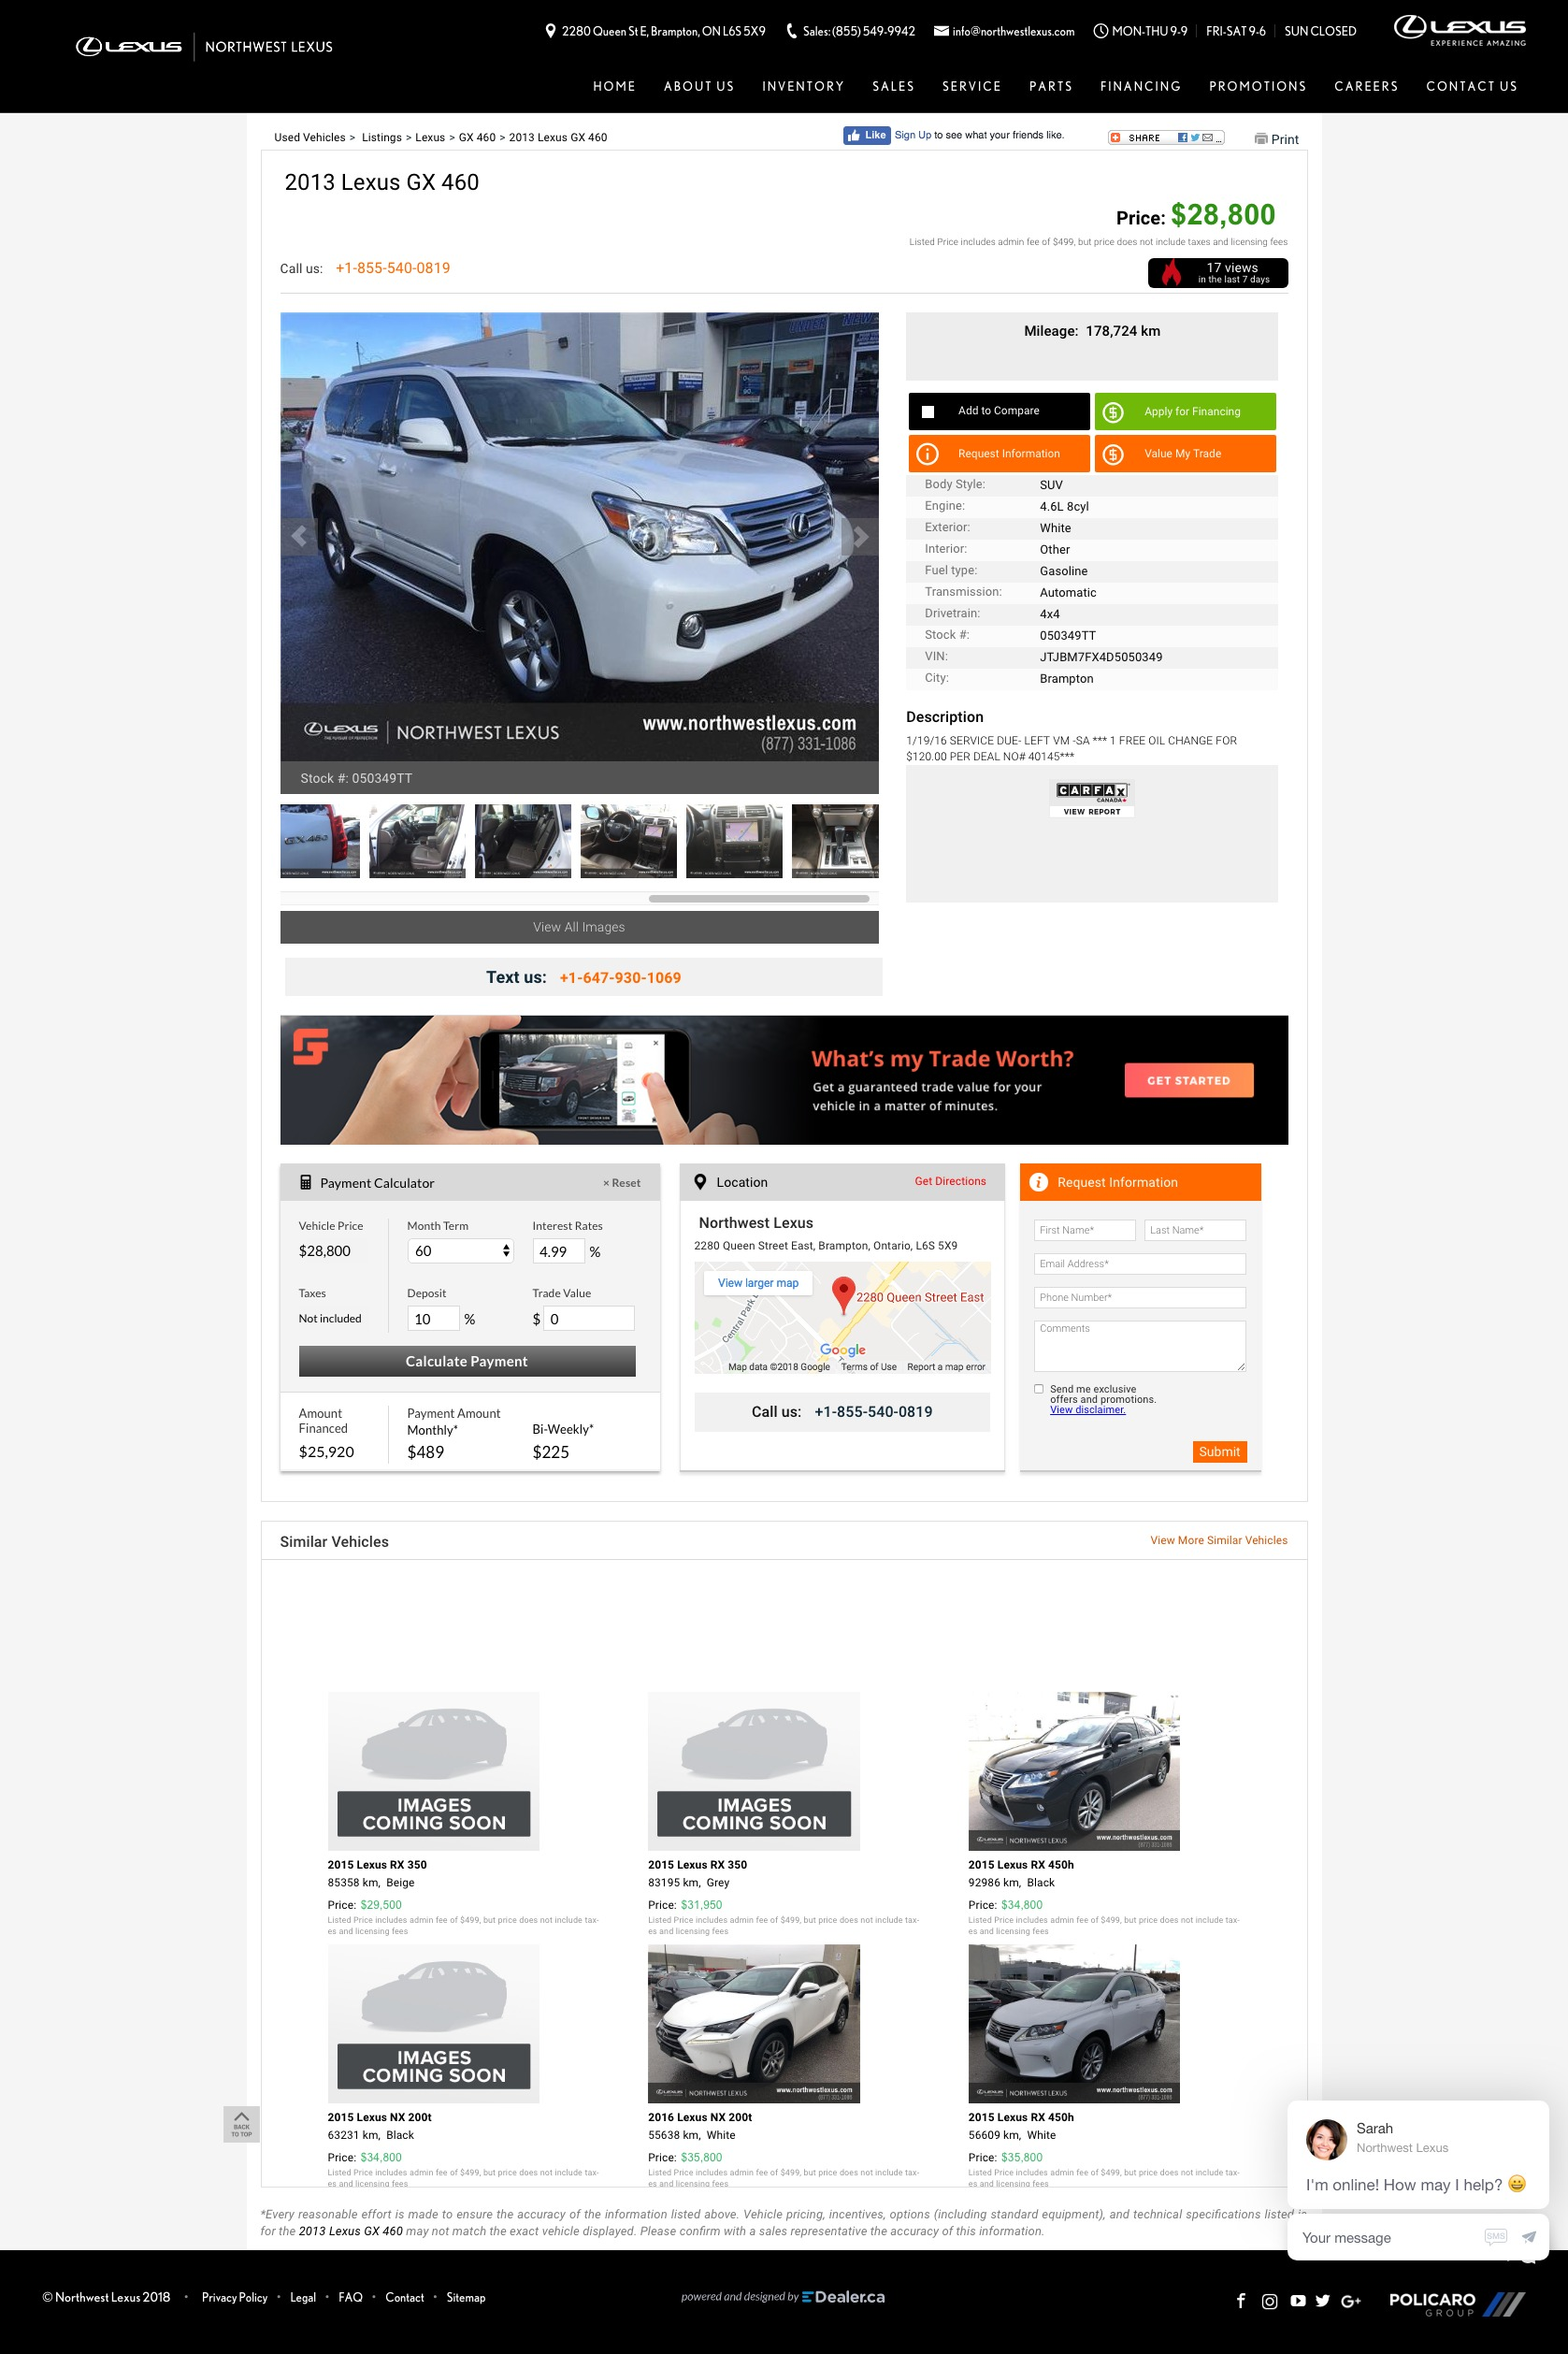car: (854, 527, 870, 550)
